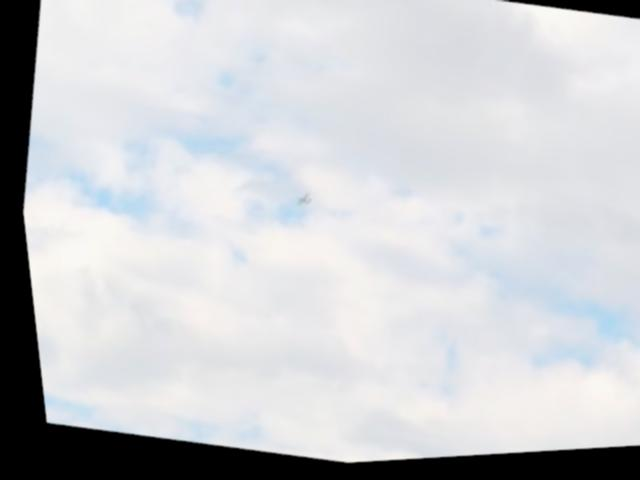uav: (287, 190, 313, 216)
